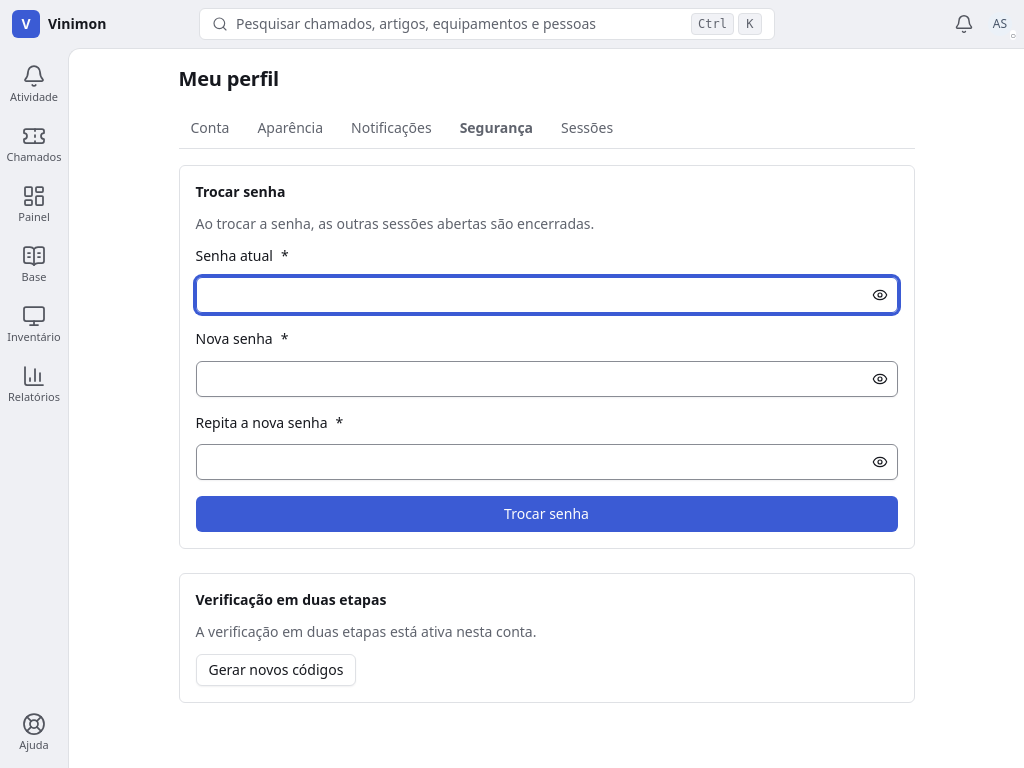
Test case: /perfil/seguranca › trocar senha envia o body esperado e avisa que as outras sessões foram encerradas
This screenshot has width=1024, height=768.
Type "Antiga#12345" into the password field labelled "Senha atual *".
click(546, 295); type("Antiga#12345")  # box [196,277,898,313]
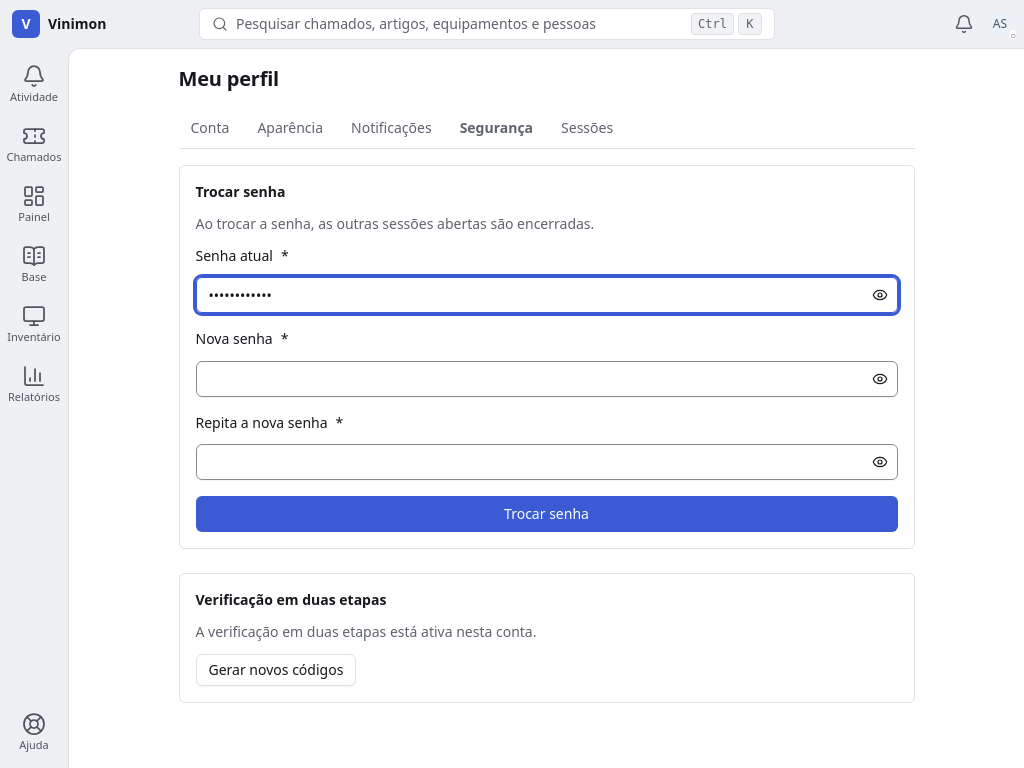
Type "Nova#Senha-9876" into the password field labelled "Nova senha *".
click(546, 378); type("Nova#Senha-9876")  # box [196,360,898,396]
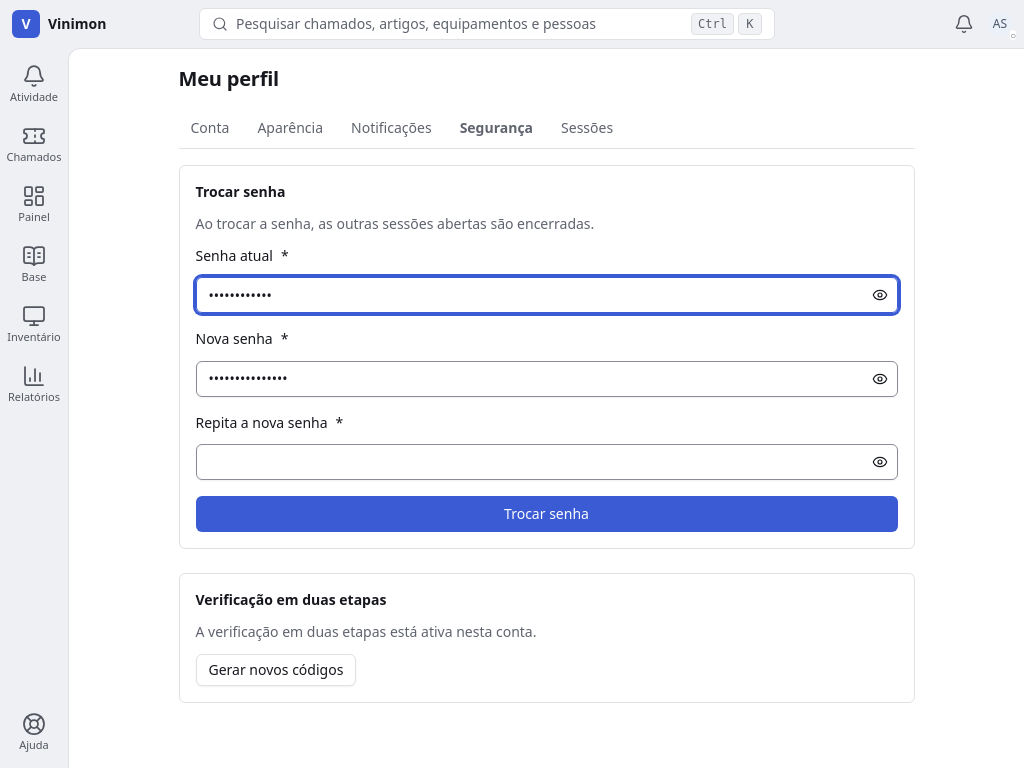
Type "Nova#Senha-9876" into the password field labelled "Repita a nova senha *".
click(546, 462); type("Nova#Senha-9876")  # box [196,444,898,480]
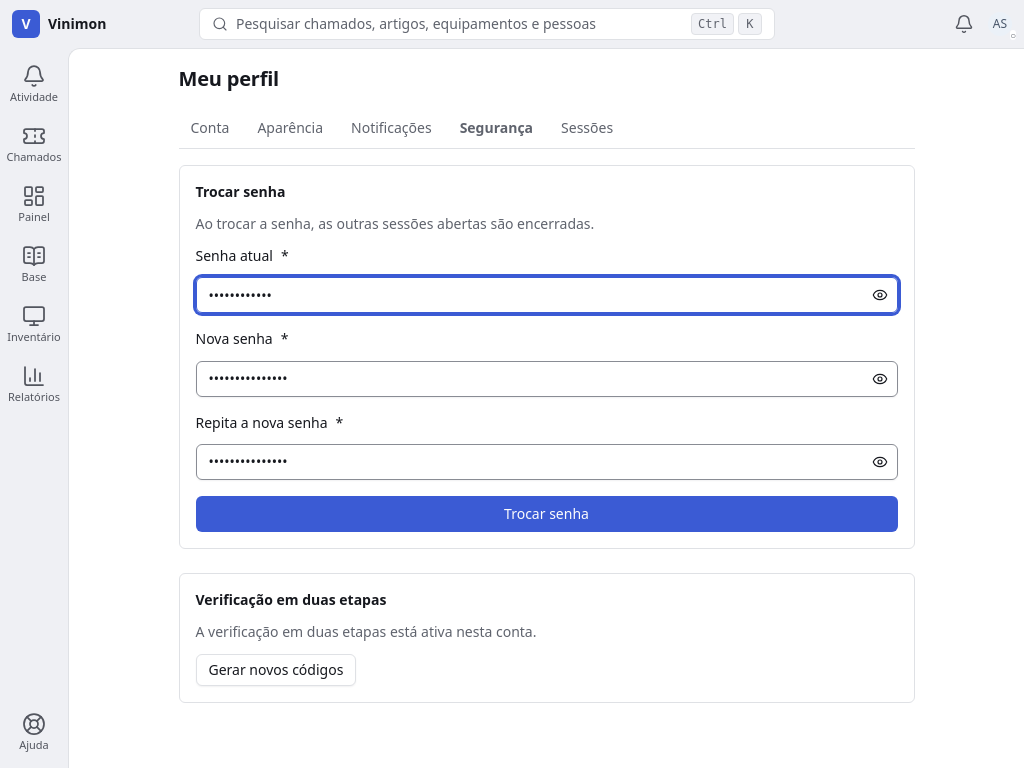
Click the button "Trocar senha".
click(546, 514)  # box [196,496,898,532]
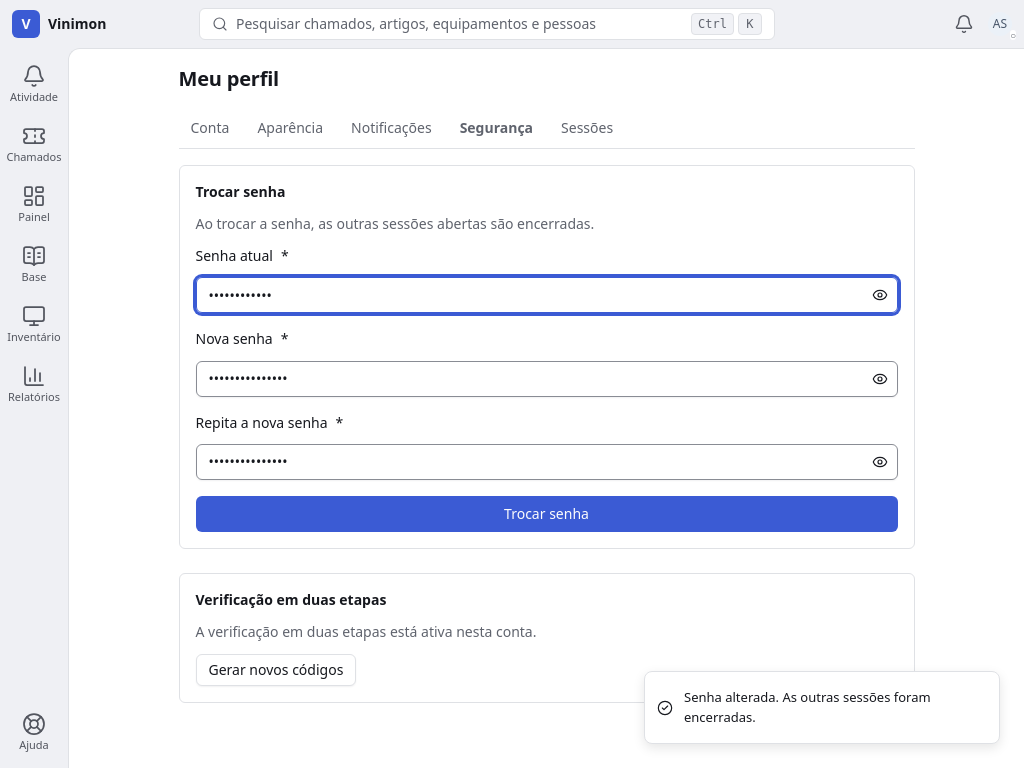
Now the text "Senha alterada. As outras sessões foram encerradas." is shown, box [684,688,931,726]
